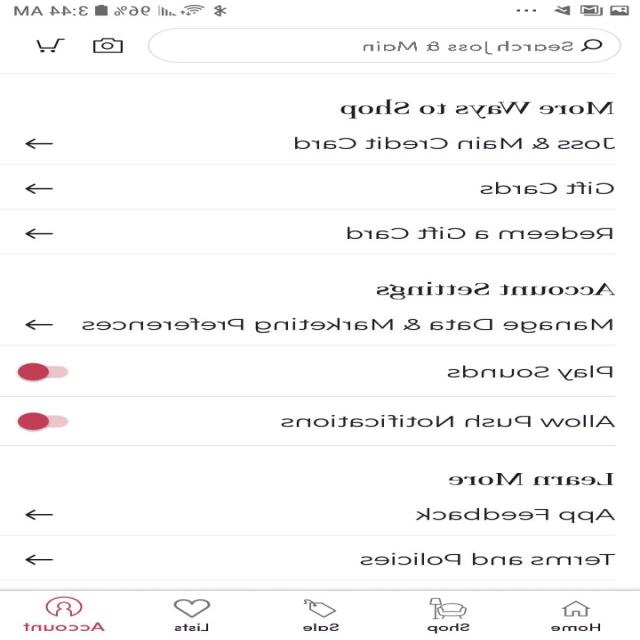EditText: (148, 28, 622, 64)
Icon: (46, 596, 84, 617), (175, 598, 212, 618), (303, 598, 338, 618), (562, 600, 592, 616), (94, 38, 124, 53), (36, 39, 66, 53), (26, 318, 56, 330), (580, 38, 604, 52), (24, 138, 54, 149), (24, 183, 54, 194), (24, 228, 54, 239), (24, 509, 54, 520), (26, 554, 56, 564)
Image: (429, 597, 468, 619)
Text: (82, 318, 614, 333), (340, 99, 616, 119), (281, 414, 616, 427), (377, 282, 616, 300), (295, 137, 616, 149), (348, 226, 614, 239), (360, 552, 616, 565), (415, 507, 616, 523), (362, 40, 574, 54), (447, 364, 613, 381), (448, 472, 614, 485), (480, 182, 614, 194), (23, 621, 106, 631), (426, 622, 471, 634), (550, 623, 601, 631), (303, 623, 341, 631), (174, 623, 210, 631)
